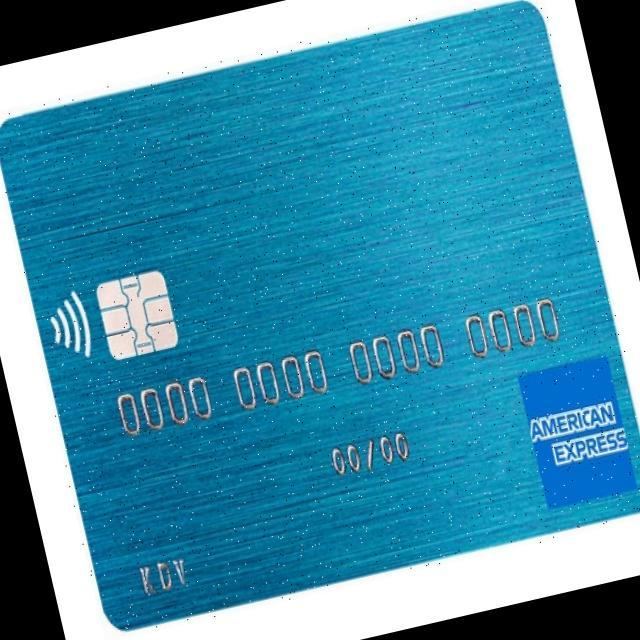payment_card: (0, 0, 639, 637)
